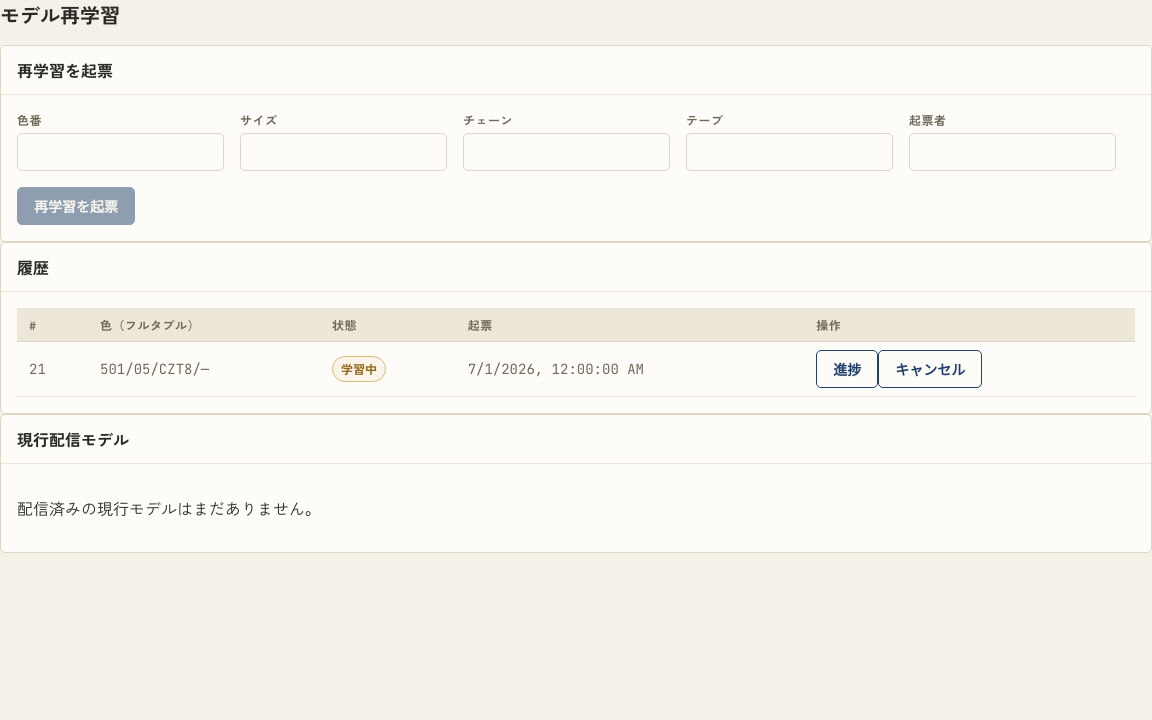
Test case: Retraining 画面 › 工程ステッパーが4工程（バックアップ/学習/モデル出力・評価/完了）を表示する
Click the button "進捗" at (847, 369), box [816,350,878,388]
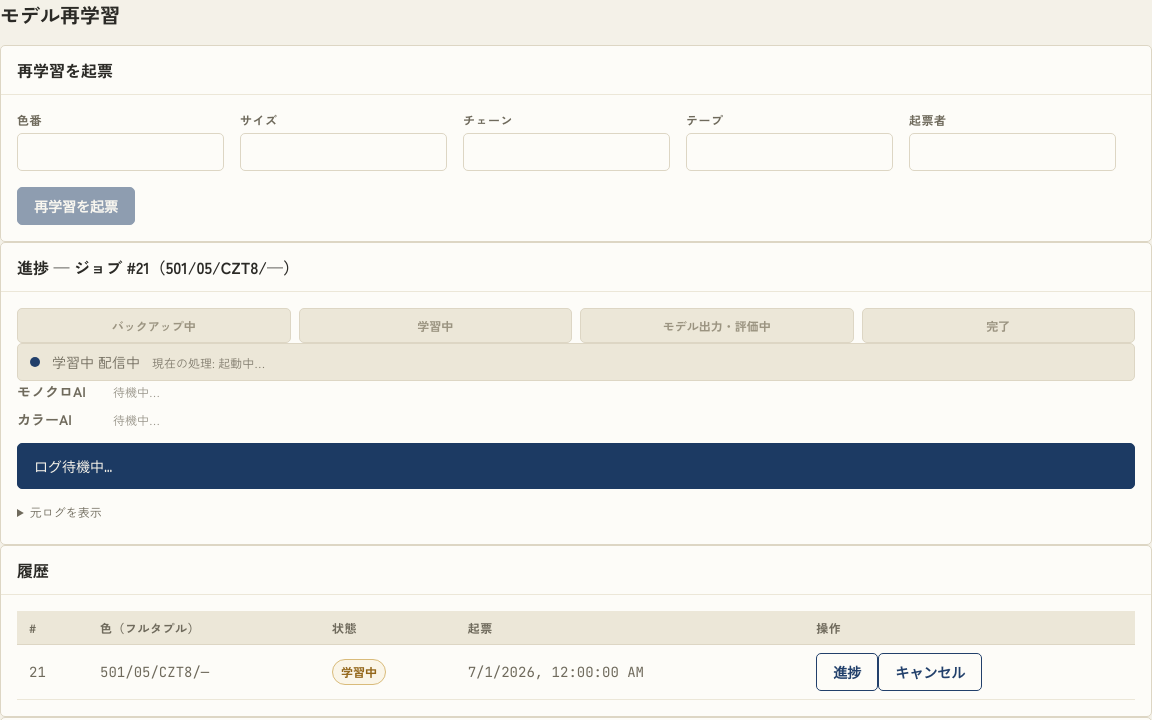
Check: the list item "バックアップ中" is shown, box [17,308,290,343]
Check: the list item "学習中" is shown, box [298,308,572,343]
Check: the list item "モデル出力・評価中" is shown, box [580,308,854,343]
